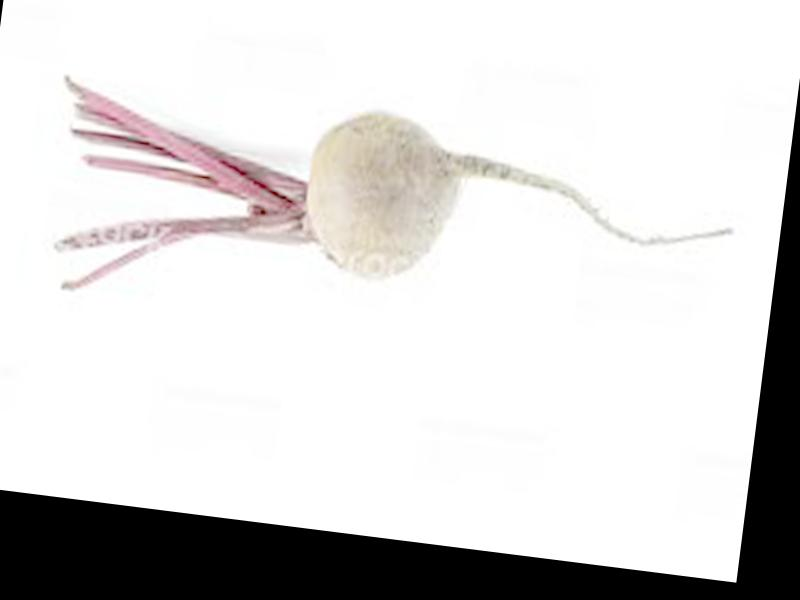Beet: (41, 74, 746, 368)
